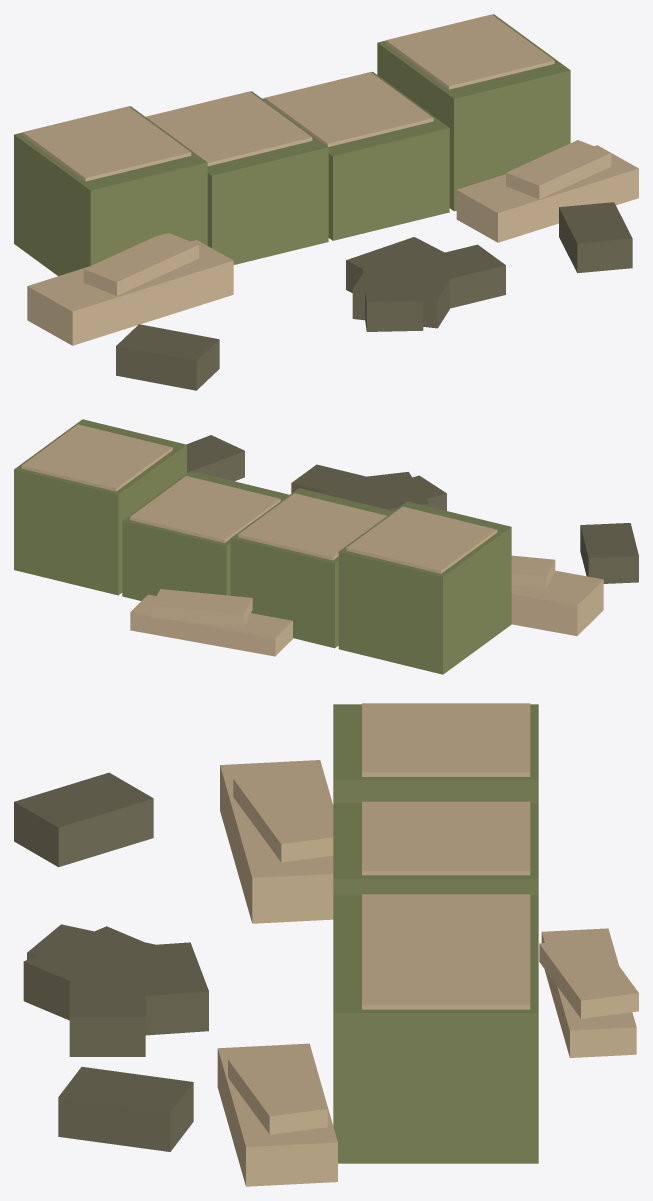
Rendered from SM_HescoCorto4_v3_RemateSacos_e2_MuyDanado_LOD1.fbx.
The picture shows the model from 3 angles, top to bottom: view 1: azimuth 30°, elevation 25°; view 2: azimuth 150°, elevation 25°; view 3: azimuth 270°, elevation 25°; orthographic projection. The views are drawn at different scales.
Visible parts, largest first — view 1: SM_hesco_piezas_v114_LOD1; view 2: SM_hesco_piezas_v114_LOD1; view 3: SM_hesco_piezas_v114_LOD1.
Part boxes in pixels (<box>): SM_hesco_piezas_v114_LOD1: <box>14,14,638,390</box>; SM_hesco_piezas_v114_LOD1: <box>14,419,638,674</box>; SM_hesco_piezas_v114_LOD1: <box>14,703,638,1186</box>.
Bounding box in the file's own units: 5.36 × 1.02 × 3.71.
